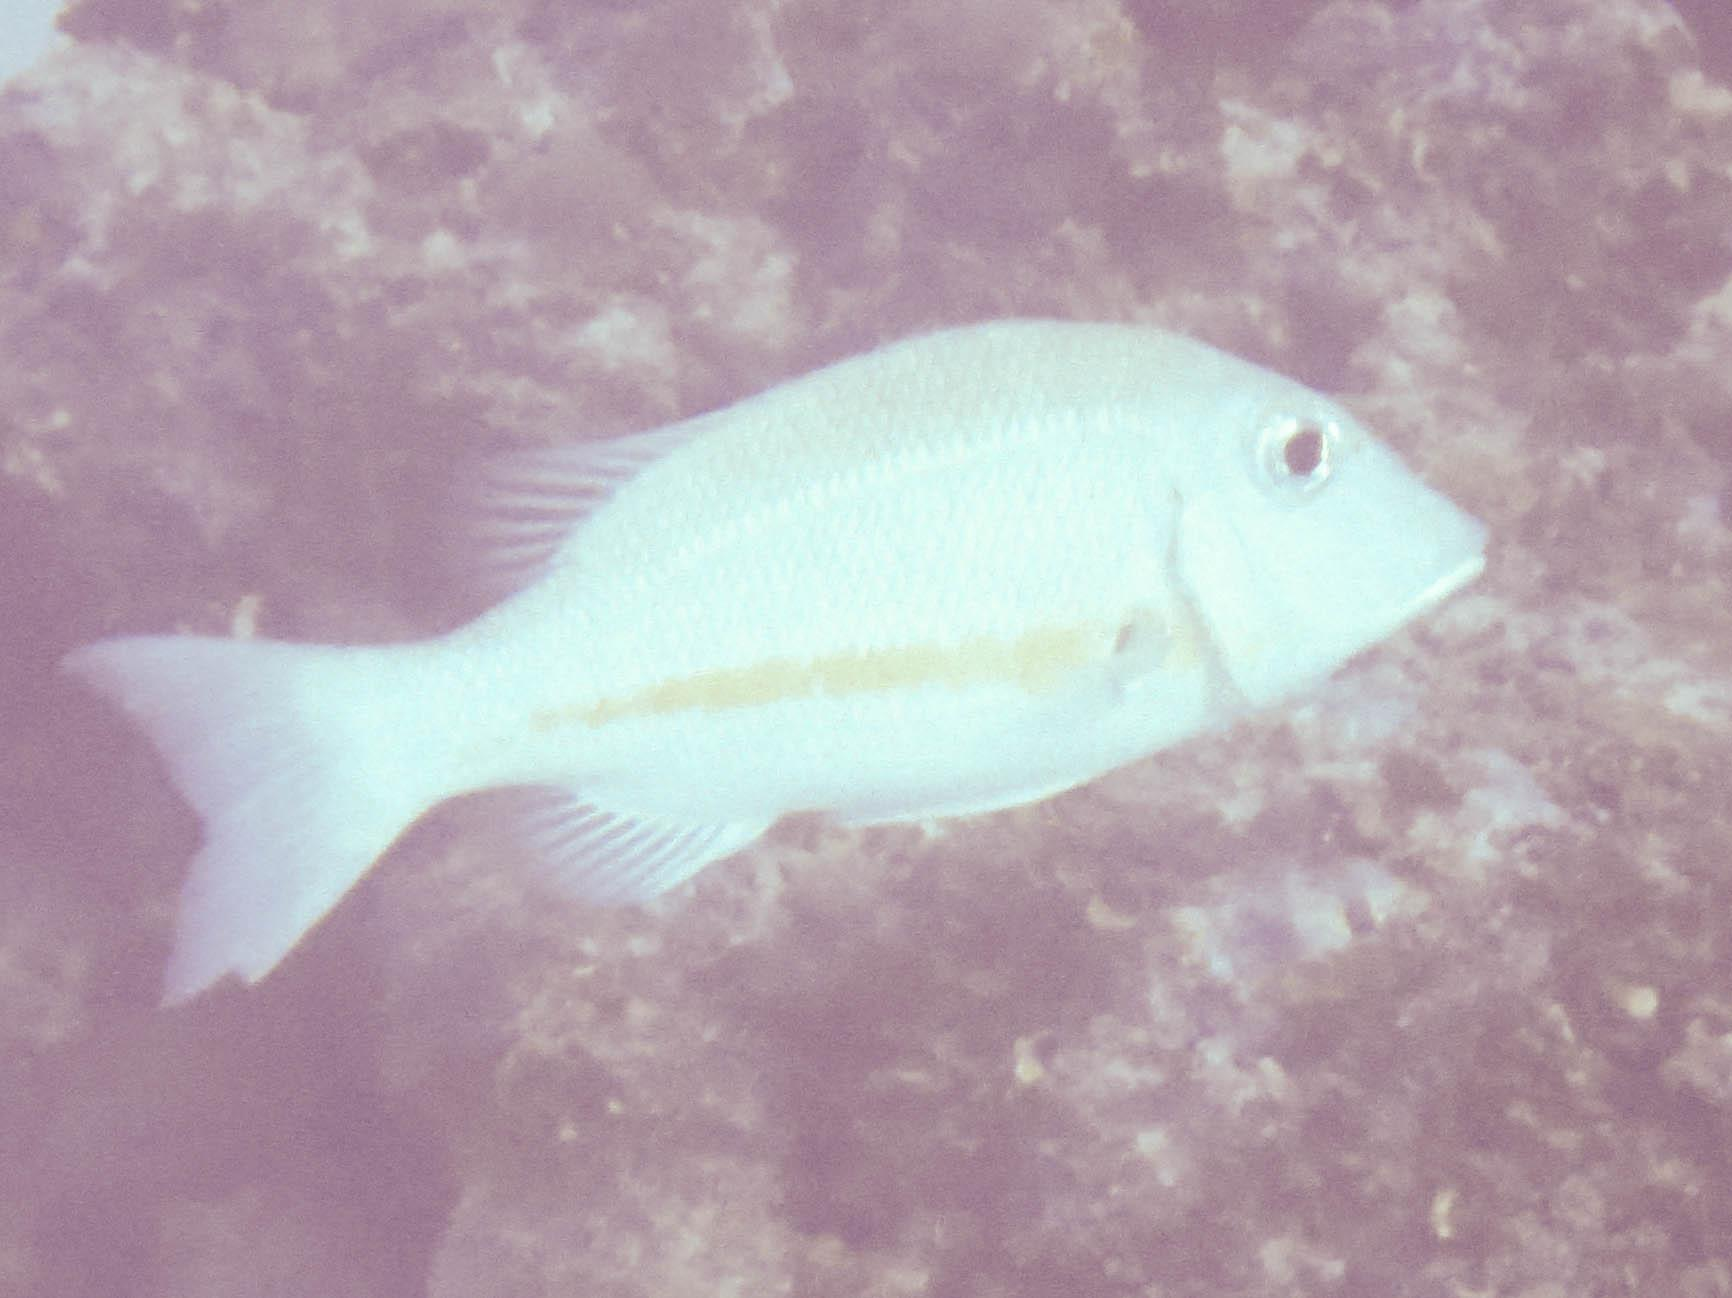Fish: (105, 300, 1500, 1047)
